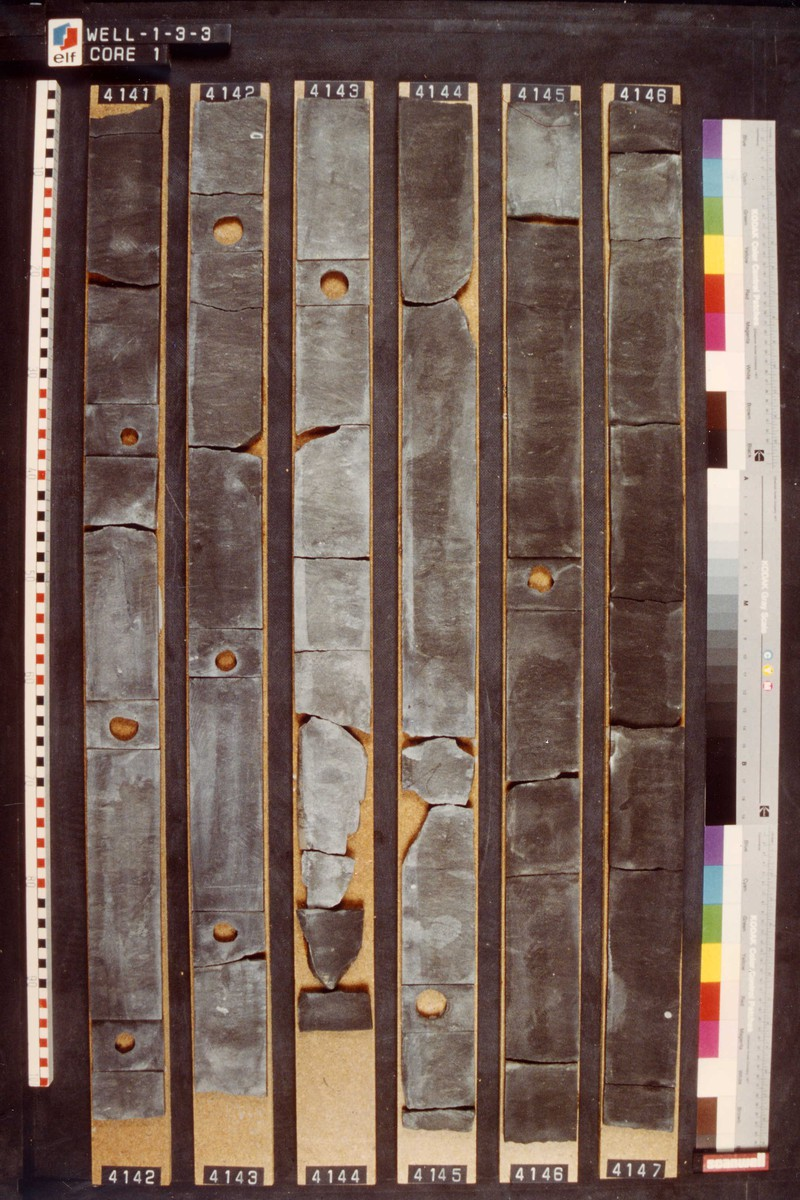core: (82, 94, 167, 1120), (398, 95, 477, 1136), (189, 100, 267, 1100), (293, 95, 376, 1032), (505, 103, 579, 1145), (608, 100, 681, 1131)
